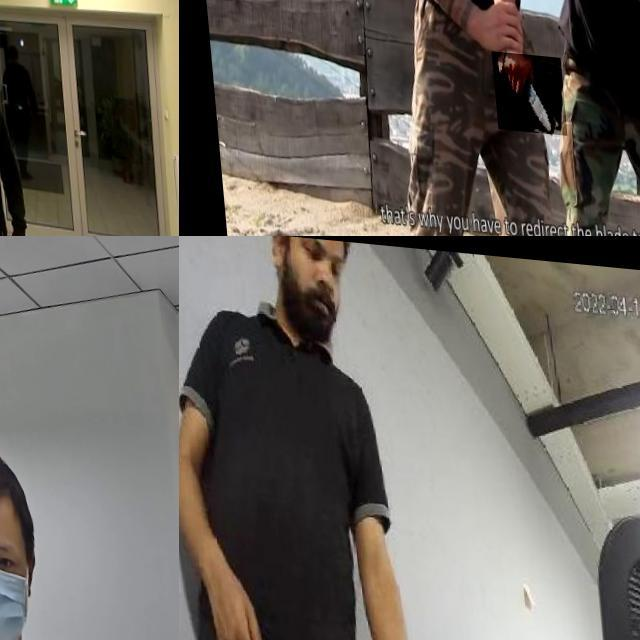-: (484, 45, 558, 128)
gun-knife-thesis - v11 Yolov5 augmented: (0, 331, 43, 529), (0, 182, 24, 225)
